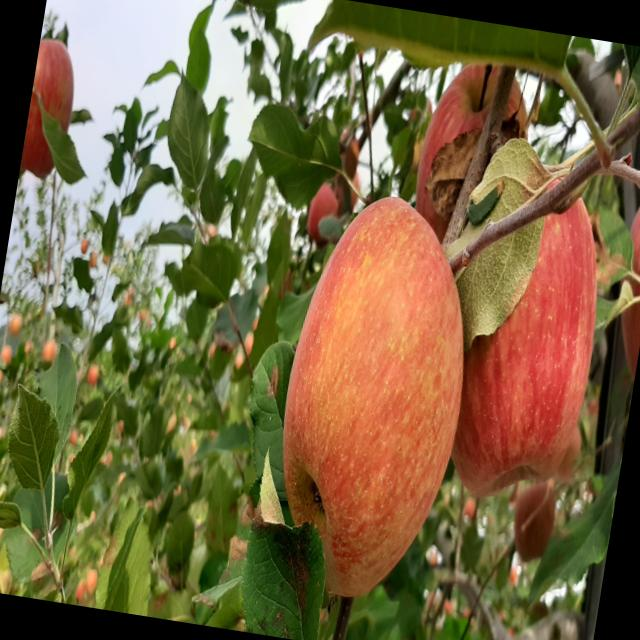fresh: (254, 177, 497, 622)
